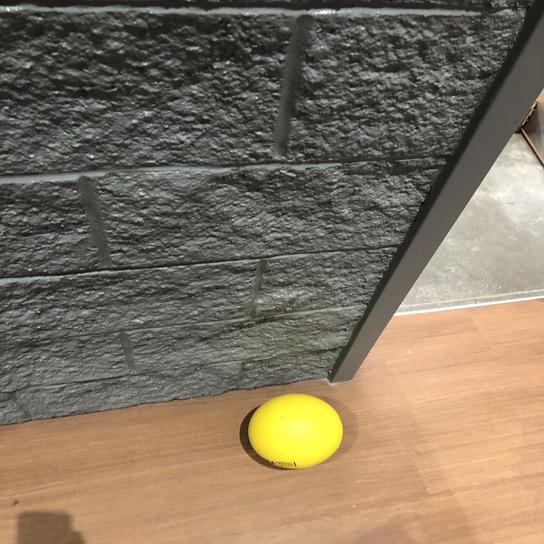ball: (242, 388, 344, 477)
